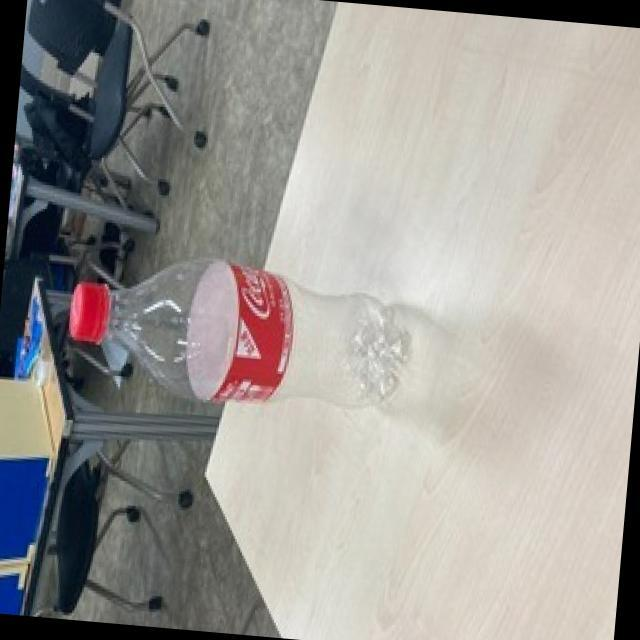good: (49, 242, 416, 422)
